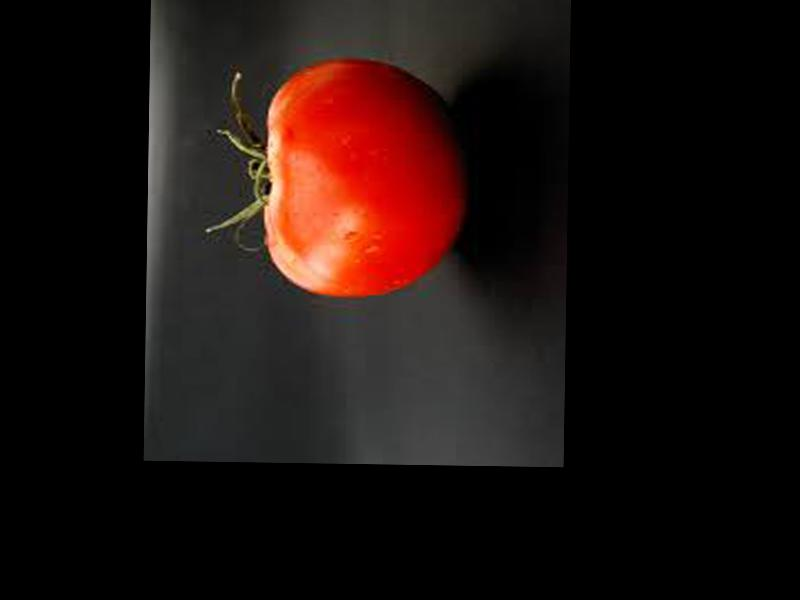Tomato: (263, 59, 466, 301)
